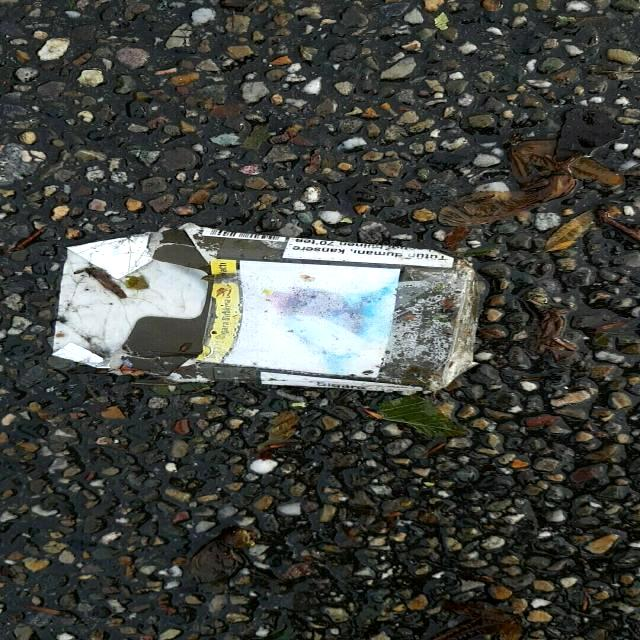Paper: (46, 220, 484, 398)
